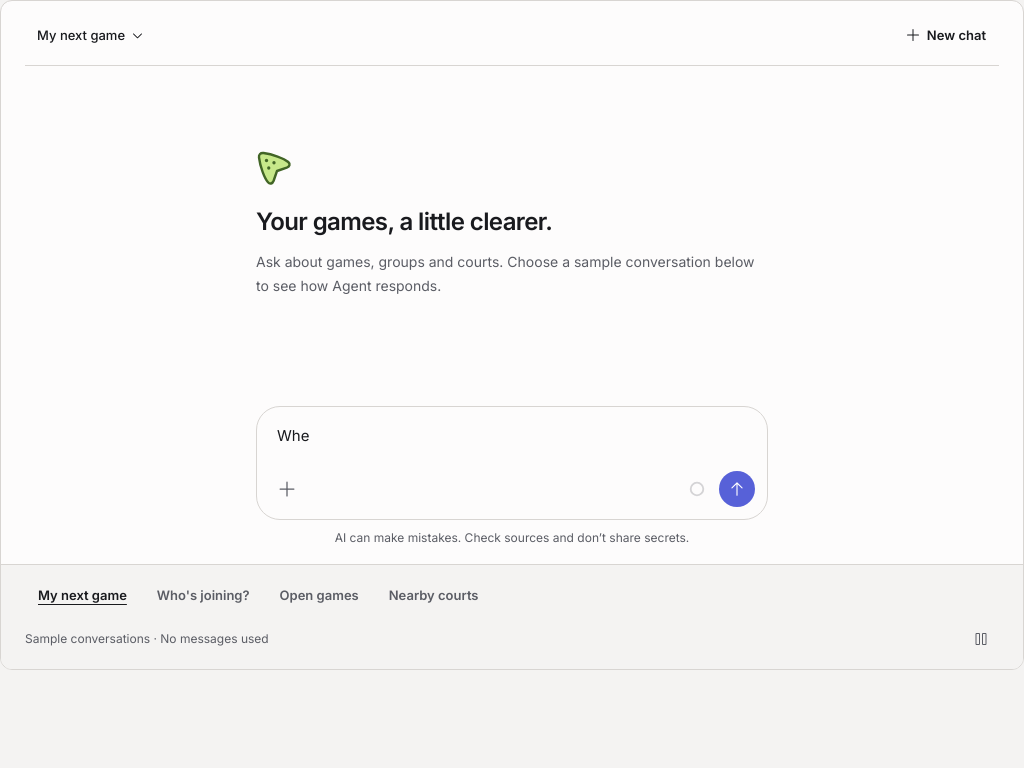
Test: Agent landing demo › plays once, pauses, resumes and finishes with an accessible answer
The image size is (1024, 768).
Click the button named "Pause demo" at (981, 639), box [963, 621, 999, 657]
Wait 4950 ms
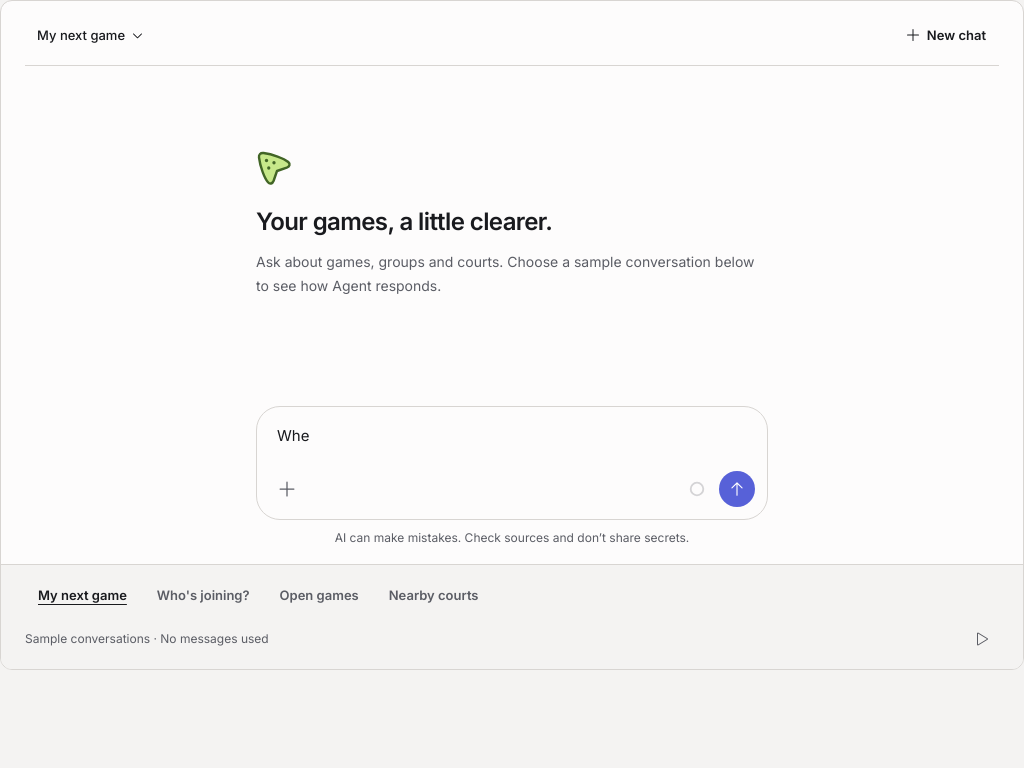
Click the button named "Resume demo" at (981, 639), box [963, 621, 999, 657]
Wait 4950 ms
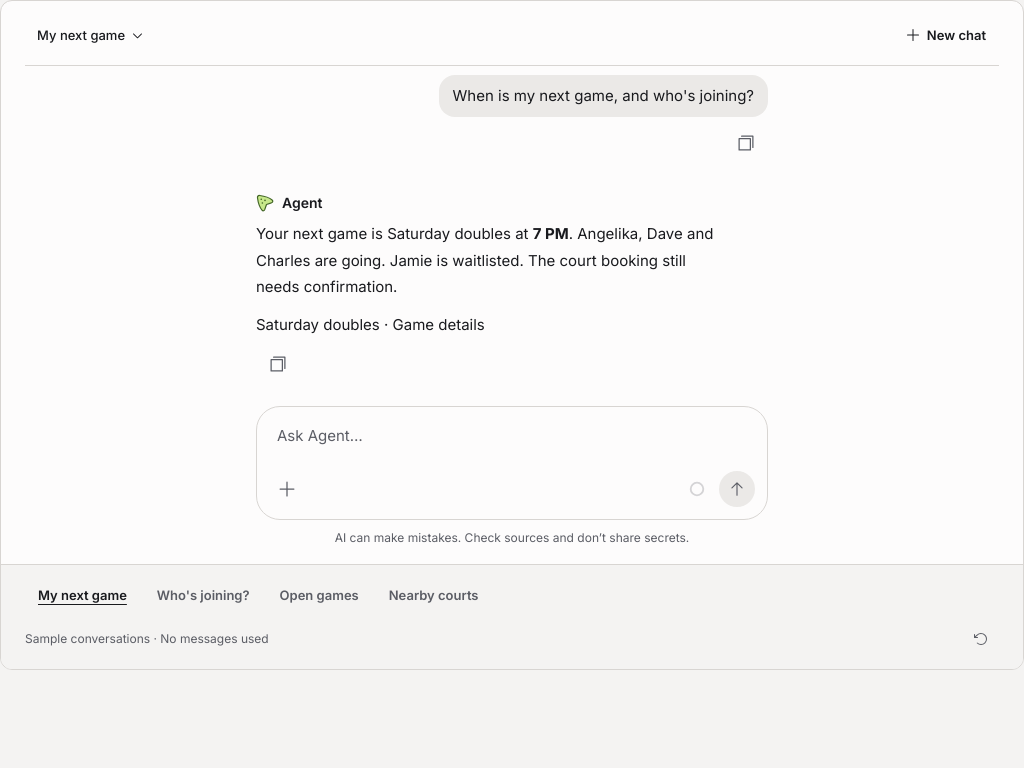
Expected: the button named "Replay demo" is shown, [963, 621, 999, 657]
